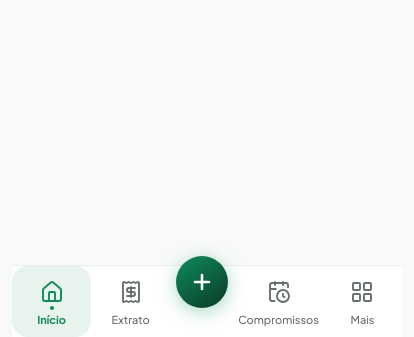
BottomNav › interactions › toggles the quick actions disclosure when FAB is clicked
Step 1. Click the button named "Nova transação" → (202, 282), box [176, 256, 228, 308]
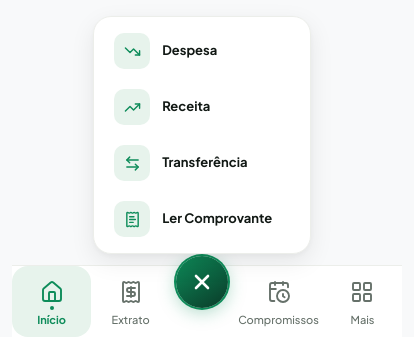
Expected: the element named "Novo lançamento" is shown, [93, 16, 311, 254]
Expected: the button named "Nova transação" is expanded, [176, 256, 228, 308]
Expected: the text "Despesa" is shown, [162, 41, 217, 61]
